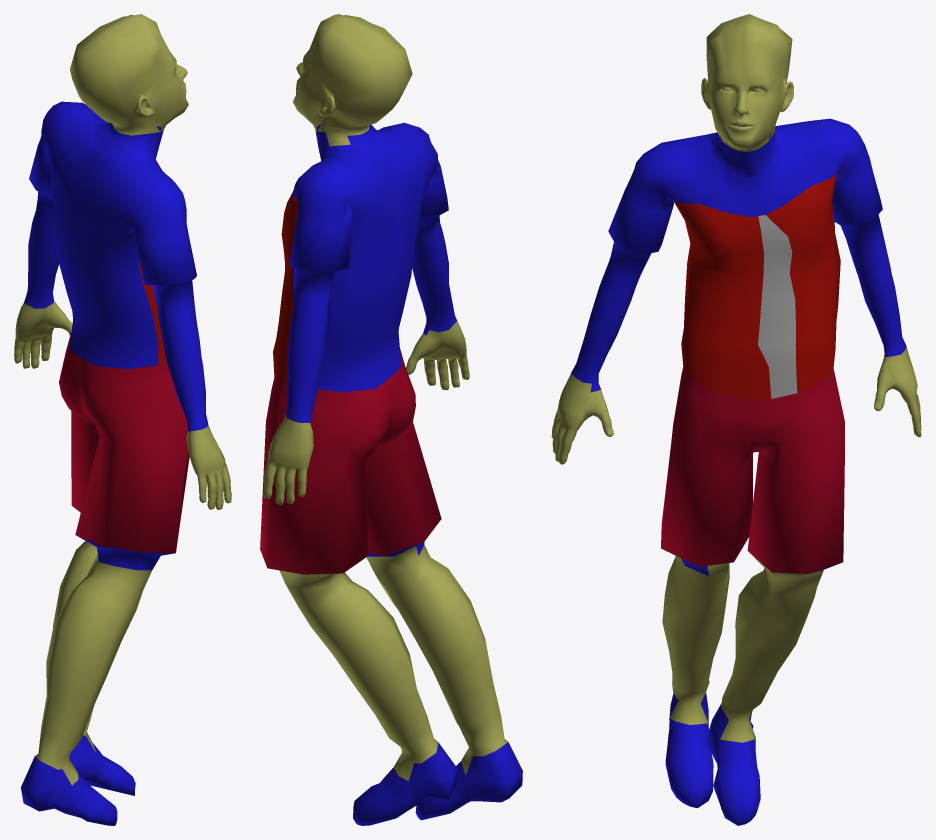
The model's file is player_000019.obj.
The picture shows the model from 3 angles, left to right: view 1: azimuth 30°, elevation 25°; view 2: azimuth 150°, elevation 25°; view 3: azimuth 270°, elevation 25°; orthographic projection. The views are drawn at different scales.
Parts seen in each view (by area): view 1: soccerplayer_mesh; view 2: soccerplayer_mesh; view 3: soccerplayer_mesh.
Part boxes in pixels (bbox=[...]): soccerplayer_mesh: bbox=[14, 14, 231, 825]; soccerplayer_mesh: bbox=[260, 14, 522, 825]; soccerplayer_mesh: bbox=[551, 14, 921, 825].
Size of the model in its own units: 1.39 by 5.46 by 2.26.
